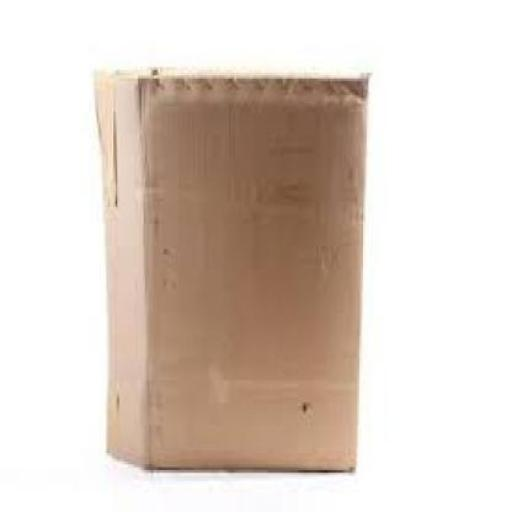cardboard: (91, 70, 367, 470)
